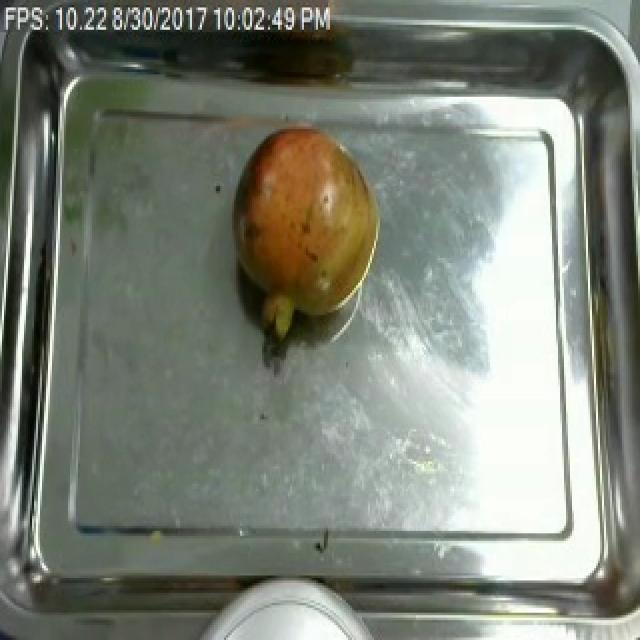fruit: (228, 112, 388, 340)
